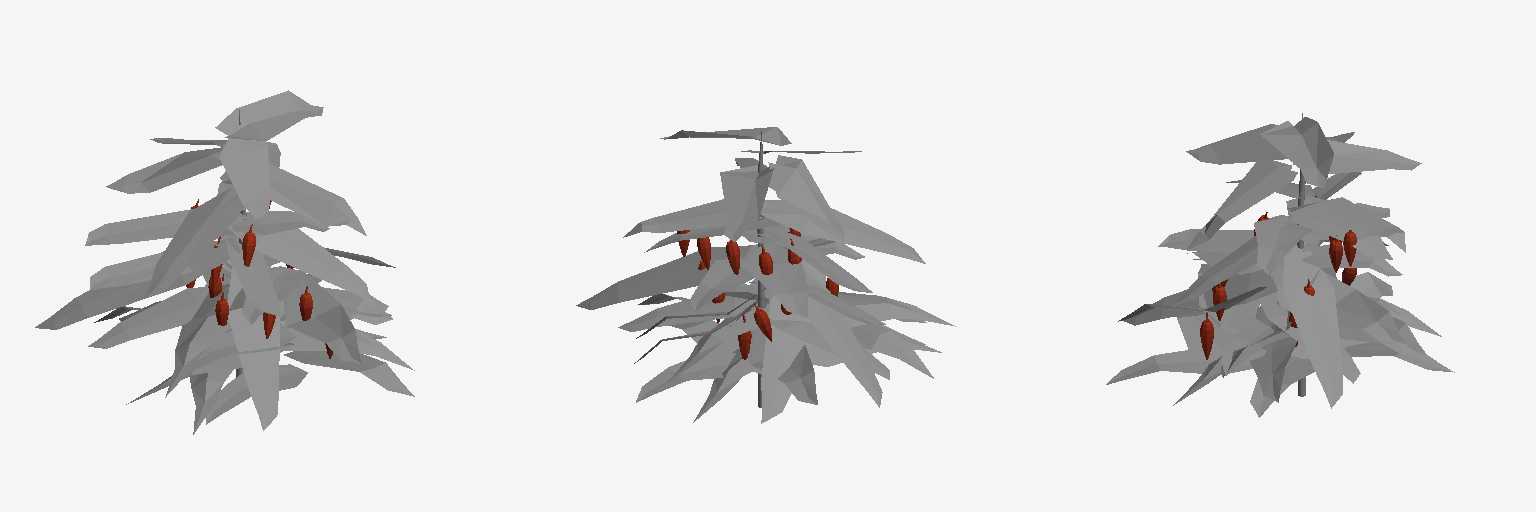
3 renders of one model, left to right at view 1: azimuth 30°, elevation 25°; view 2: azimuth 150°, elevation 25°; view 3: azimuth 270°, elevation 25°, orthographic.
Visible parts, largest first — view 1: Default_Layer; view 2: Default_Layer; view 3: Default_Layer.
Part boxes in pixels (x1,y1,x2,y2): Default_Layer: (35, 90, 414, 434); Default_Layer: (576, 127, 955, 423); Default_Layer: (1106, 113, 1454, 417).
Size of the model in its own units: 2765 by 2237 by 2510.
2 materials, 1 textured.